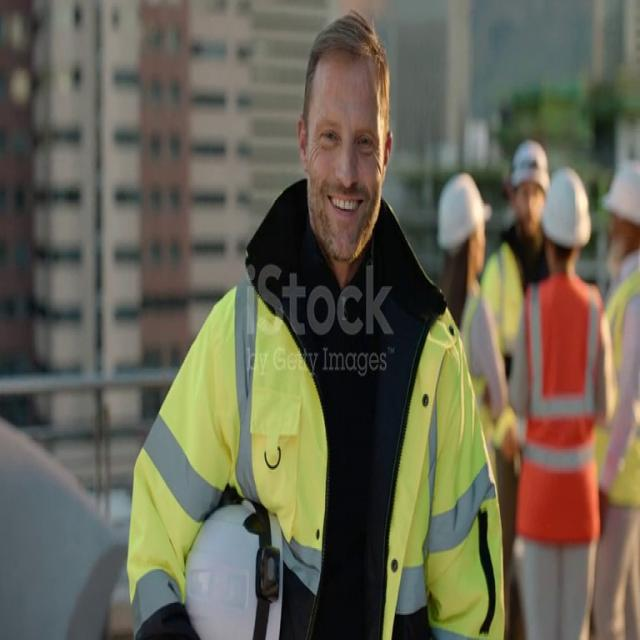capacete: (172, 474, 294, 640), (426, 167, 496, 255), (534, 169, 594, 249), (601, 144, 640, 238), (506, 119, 551, 199)
